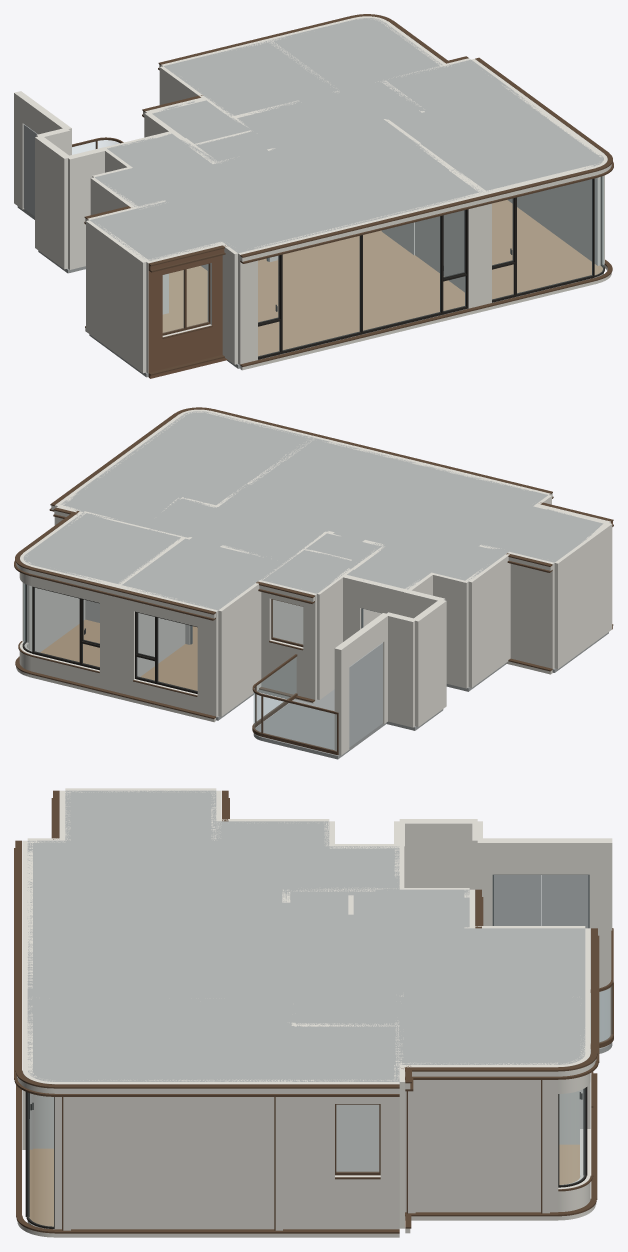
Rendered from home.glb.
3 renders of one model, top to bottom at view 1: azimuth 30°, elevation 25°; view 2: azimuth 150°, elevation 25°; view 3: azimuth 270°, elevation 25°, orthographic. The views are drawn at different scales.
Visible parts, largest first — view 1: 客餐厅_ceiling, 客餐厅_finish, 主卧_ceiling, 客厅落地窗 · 中央整幅固定玻璃.001, 客厅落地窗 · 中央整幅固定玻璃, 主卧南落地窗 · 中央整幅固定玻璃, 次卧二_ceiling, 次卧一_ceiling, 厨房西外墙_0_0, 玄关_ceiling, 主卧_finish, 主卧东侧完整外墙_0_0 (+36 smaller); view 2: 客餐厅_ceiling, 主卧_ceiling, 厨房西外墙_0_0, 次卧二_ceiling, 次卧一_ceiling, 玄关_ceiling, 暖白外墙面 | west-bedroom-north, 次卧二西侧外围实墙_0_0, 玄关西侧外围墙_0_0, 暖白外墙面 | kitchen-north, 厨房_ceiling, 客卫_ceiling (+32 smaller); view 3: 客餐厅_ceiling, 暖白外墙面 | master-east, 主卧_ceiling, 暖白外墙面 | east-bedroom-east, 次卧二_ceiling, 次卧一_ceiling, 暖白外墙面 | bath-east, 玄关_ceiling, 厨房_ceiling, 客卫_ceiling, 主卫_ceiling, 光厅西侧外墙_0_0 (+33 smaller).
Part boxes in pixels (x1,y1,x2,y2): 客餐厅_ceiling: (167,90,481,253); 客餐厅_finish: (169,230,464,356); 主卧_ceiling: (387,89,603,191); 客厅落地窗 · 中央整幅固定玻璃.001: (363,216,440,330); 客厅落地窗 · 中央整幅固定玻璃: (283,236,359,350); 主卧南落地窗 · 中央整幅固定玻璃: (517,179,592,293); 次卧二_ceiling: (163,40,338,115); 次卧一_ceiling: (269,18,442,91); 厨房西外墙_0_0: (86,220,149,373); 玄关_ceiling: (95,133,242,207); 主卧_finish: (492,200,602,299); 主卧东侧完整外墙_0_0: (508,88,604,265); 客餐厅_ceiling: (179,437,547,561); 主卧_ceiling: (97,411,312,505); 厨房西外墙_0_0: (554,523,612,668); 次卧二_ceiling: (120,538,284,610); 次卧一_ceiling: (23,512,180,584); 玄关_ceiling: (347,527,508,589); 暖白外墙面 | west-bedroom-north: (115,597,215,716); 次卧二西侧外围实墙_0_0: (218,580,262,716); 玄关西侧外围墙_0_0: (465,551,512,687); 暖白外墙面 | kitchen-north: (510,563,552,668); 厨房_ceiling: (481,506,603,562); 客卫_ceiling: (260,533,382,593); 客餐厅_ceiling: (27,840,399,999); 暖白外墙面 | master-east: (54,1097,291,1229); 主卧_ceiling: (27,1000,291,1081); 暖白外墙面 | east-bedroom-east: (405,1080,558,1212); 次卧二_ceiling: (399,928,585,996); 次卧一_ceiling: (399,996,585,1064); 暖白外墙面 | bath-east: (291,1097,399,1229); 玄关_ceiling: (216,821,399,889); 厨房_ceiling: (65,790,216,840); 客卫_ceiling: (286,889,469,928); 主卫_ceiling: (291,1025,399,1081); 光厅西侧外墙_0_0: (399,819,477,889).
Bounding box in the file's own units: 13.16 × 3.14 × 11.14.
